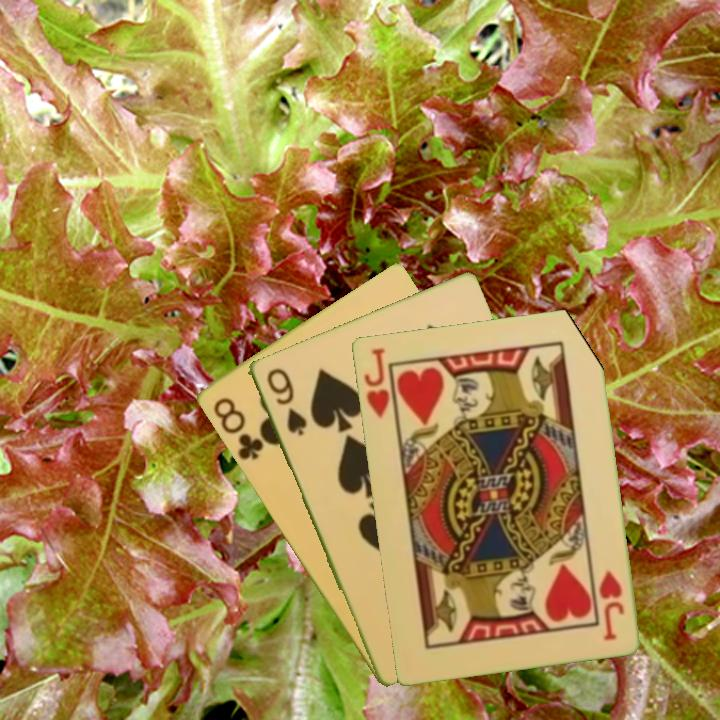8c: (209, 393, 266, 463)
9s: (262, 364, 310, 439)
Jh: (360, 344, 399, 427), (595, 566, 626, 643)
